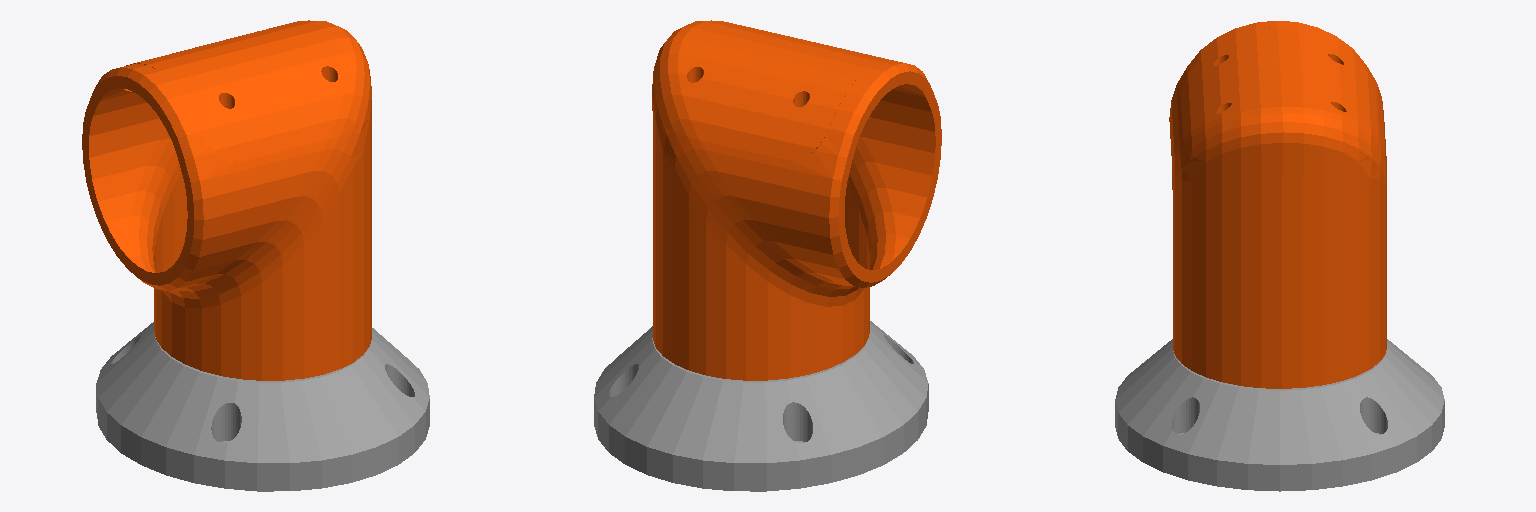
robot.urdf — r6bot:
<?xml version="1.0" ?>
<!-- =================================================================================== -->
<!-- |    This document was autogenerated by xacro -->
<!-- |    EDITING THIS FILE BY HAND IS NOT RECOMMENDED                                 | -->
<!-- =================================================================================== -->
<robot name="r6bot">
  <!-- create link fixed to the "world" -->
  <link name="world"/>
  <link name="base_link">
    <visual>
      <origin rpy="0 0 0" xyz="0 0 0"/>
      <geometry>
        <mesh filename="package://r6bot_description/meshes/visual/link_0.dae"/>
      </geometry>
    </visual>
    <collision>
      <origin rpy="0 0 0" xyz="0 0 0"/>
      <geometry>
        <mesh filename="package://r6bot_description/meshes/collision/link_0.stl"/>
      </geometry>
    </collision>
    <inertial>
      <mass value="1"/>
      <inertia ixx="1.0" ixy="0.0" ixz="0.0" iyy="1.0" iyz="0.0" izz="1.0"/>
    </inertial>
  </link>
  <link name="link_1">
    <visual>
      <origin rpy="0 0 0" xyz="0 0 0"/>
      <geometry>
        <mesh filename="package://r6bot_description/meshes/visual/link_1.dae"/>
      </geometry>
    </visual>
    <collision>
      <origin rpy="0 0 0" xyz="0 0 0"/>
      <geometry>
        <mesh filename="package://r6bot_description/meshes/collision/link_1.stl"/>
      </geometry>
    </collision>
    <inertial>
      <mass value="1"/>
      <inertia ixx="1.0" ixy="0.0" ixz="0.0" iyy="1.0" iyz="0.0" izz="1.0"/>
    </inertial>
  </link>
  <link name="link_2">
    <visual>
      <origin rpy="0 0 0" xyz="0 0 0"/>
      <geometry>
        <mesh filename="package://r6bot_description/meshes/visual/link_2.dae"/>
      </geometry>
    </visual>
    <collision>
      <origin rpy="0 0 0" xyz="0 0 0"/>
      <geometry>
        <mesh filename="package://r6bot_description/meshes/collision/link_2.stl"/>
      </geometry>
    </collision>
    <inertial>
      <mass value="1"/>
      <inertia ixx="1.0" ixy="0.0" ixz="0.0" iyy="1.0" iyz="0.0" izz="1.0"/>
    </inertial>
  </link>
  <link name="link_3">
    <visual>
      <origin rpy="0 0 0" xyz="0 0 0"/>
      <geometry>
        <mesh filename="package://r6bot_description/meshes/visual/link_3.dae"/>
      </geometry>
    </visual>
    <collision>
      <origin rpy="0 0 0" xyz="0 0 0"/>
      <geometry>
        <mesh filename="package://r6bot_description/meshes/collision/link_3.stl"/>
      </geometry>
    </collision>
    <inertial>
      <mass value="1"/>
      <inertia ixx="1.0" ixy="0.0" ixz="0.0" iyy="1.0" iyz="0.0" izz="1.0"/>
    </inertial>
  </link>
  <link name="link_4">
    <visual>
      <origin rpy="0 0 0" xyz="0 0 0"/>
      <geometry>
        <mesh filename="package://r6bot_description/meshes/visual/link_4.dae"/>
      </geometry>
    </visual>
    <collision>
      <origin rpy="0 0 0" xyz="0 0 0"/>
      <geometry>
        <mesh filename="package://r6bot_description/meshes/collision/link_4.stl"/>
      </geometry>
    </collision>
    <inertial>
      <mass value="1"/>
      <inertia ixx="1.0" ixy="0.0" ixz="0.0" iyy="1.0" iyz="0.0" izz="1.0"/>
    </inertial>
  </link>
  <link name="link_5">
    <visual>
      <origin rpy="0 0 0" xyz="0 0 0"/>
      <geometry>
        <mesh filename="package://r6bot_description/meshes/visual/link_5.dae"/>
      </geometry>
    </visual>
    <collision>
      <origin rpy="0 0 0" xyz="0 0 0"/>
      <geometry>
        <mesh filename="package://r6bot_description/meshes/collision/link_5.stl"/>
      </geometry>
    </collision>
    <inertial>
      <mass value="1"/>
      <inertia ixx="1.0" ixy="0.0" ixz="0.0" iyy="1.0" iyz="0.0" izz="1.0"/>
    </inertial>
  </link>
  <link name="link_6">
    <visual>
      <origin rpy="0 0 0" xyz="0 0 0"/>
      <geometry>
        <mesh filename="package://r6bot_description/meshes/visual/link_6.dae"/>
      </geometry>
    </visual>
    <collision>
      <origin rpy="0 0 0" xyz="0 0 0"/>
      <geometry>
        <mesh filename="package://r6bot_description/meshes/collision/link_6.stl"/>
      </geometry>
    </collision>
    <inertial>
      <mass value="1"/>
      <inertia ixx="1.0" ixy="0.0" ixz="0.0" iyy="1.0" iyz="0.0" izz="1.0"/>
    </inertial>
  </link>
  <link name="ft_frame"/>
  <link name="tool0"/>
  <!-- base_joint fixes base_link to the environment -->
  <joint name="base_joint" type="fixed">
    <parent link="world"/>
    <child link="base_link"/>
    <origin rpy="0 0 0" xyz="0 0 0"/>
    <axis xyz="0 0 1"/>
  </joint>
  <!-- joints - main serial chain -->
  <joint name="joint_1" type="revolute">
    <parent link="base_link"/>
    <child link="link_1"/>
    <origin rpy="0 0 0" xyz="0 0 0.061584"/>
    <axis xyz="0 0 1"/>
    <limit effort="1000.0" lower="-3.141592653589793" upper="3.141592653589793" velocity="2.5"/>
  </joint>
  <joint name="joint_2" type="revolute">
    <parent link="link_1"/>
    <child link="link_2"/>
    <origin rpy="-1.5707963267948966 -1.0471975511965976 1.5707963267948966" xyz="-0.101717 0 0.182284"/>
    <axis xyz="0 0 1"/>
    <limit effort="1000.0" lower="-3.141592653589793" upper="3.141592653589793" velocity="2.5"/>
  </joint>
  <joint name="joint_3" type="revolute">
    <parent link="link_2"/>
    <child link="link_3"/>
    <origin rpy="0 3.141592653589793 4.71238898038469" xyz="0.685682 0 0.041861"/>
    <axis xyz="0 0 1"/>
    <limit effort="1000.0" lower="-3.141592653589793" upper="3.141592653589793" velocity="2.5"/>
  </joint>
  <joint name="joint_4" type="revolute">
    <parent link="link_3"/>
    <child link="link_4"/>
    <origin rpy="0 3.141592653589793 3.665191429188092" xyz="0.518777 0 0.067458"/>
    <axis xyz="0 0 1"/>
    <limit effort="1000.0" lower="-3.141592653589793" upper="3.141592653589793" velocity="2.5"/>
  </joint>
  <joint name="joint_5" type="revolute">
    <parent link="link_4"/>
    <child link="link_5"/>
    <origin rpy="1.5707963267948966 3.141592653589793 1.5707963267948966" xyz="0.112654 0 0.110903"/>
    <axis xyz="0 0 1"/>
    <limit effort="1000.0" lower="-3.141592653589793" upper="3.141592653589793" velocity="2.5"/>
  </joint>
  <joint name="joint_6" type="revolute">
    <parent link="link_5"/>
    <child link="link_6"/>
    <origin rpy="0 -1.5707963267948966 0" xyz="-0.085976 0 0.133436"/>
    <axis xyz="0 0 1"/>
    <limit effort="1000.0" lower="-3.141592653589793" upper="3.141592653589793" velocity="2.5"/>
  </joint>
  <joint name="joint-ft_frame" type="fixed">
    <parent link="link_6"/>
    <child link="ft_frame"/>
    <origin rpy="0 0 0" xyz="0 0 0"/>
  </joint>
  <joint name="joint-tool" type="fixed">
    <parent link="ft_frame"/>
    <child link="tool0"/>
    <origin rpy="0 0 0" xyz="0 0 .185"/>
  </joint>
  <!-- ros2 control tag -->
  <ros2_control name="robot_6_dof" type="system">
    <hardware>
      <plugin>r6bot_hardware/RobotSystem</plugin>
    </hardware>
    <joint name="joint_1">
      <command_interface name="position">
        <param name="min">{-2*pi}</param>
        <param name="max">{2*pi}</param>
      </command_interface>
      <command_interface name="velocity">
        <param name="min">-3.15</param>
        <param name="max">3.15</param>
      </command_interface>
      <state_interface name="position">
        <param name="initial_value">0.0</param>
      </state_interface>
      <state_interface name="velocity"/>
    </joint>
    <joint name="joint_2">
      <command_interface name="position">
        <param name="min">{-2*pi}</param>
        <param name="max">{2*pi}</param>
      </command_interface>
      <command_interface name="velocity">
        <param name="min">-3.15</param>
        <param name="max">3.15</param>
      </command_interface>
      <state_interface name="position">
        <param name="initial_value">0.0</param>
      </state_interface>
      <state_interface name="velocity"/>
    </joint>
    <joint name="joint_3">
      <command_interface name="position">
        <param name="min">{-pi}</param>
        <param name="max">{pi}</param>
      </command_interface>
      <command_interface name="velocity">
        <param name="min">-3.15</param>
        <param name="max">3.15</param>
      </command_interface>
      <state_interface name="position">
        <param name="initial_value">0.0</param>
      </state_interface>
      <state_interface name="velocity"/>
    </joint>
    <joint name="joint_4">
      <command_interface name="position">
        <param name="min">{-2*pi}</param>
        <param name="max">{2*pi}</param>
      </command_interface>
      <command_interface name="velocity">
        <param name="min">-3.2</param>
        <param name="max">3.2</param>
      </command_interface>
      <state_interface name="position">
        <param name="initial_value">0.0</param>
      </state_interface>
      <state_interface name="velocity"/>
    </joint>
    <joint name="joint_5">
      <command_interface name="position">
        <param name="min">{-2*pi}</param>
        <param name="max">{2*pi}</param>
      </command_interface>
      <command_interface name="velocity">
        <param name="min">-3.2</param>
        <param name="max">3.2</param>
      </command_interface>
      <state_interface name="position">
        <param name="initial_value">0.0</param>
      </state_interface>
      <state_interface name="velocity"/>
    </joint>
    <joint name="joint_6">
      <command_interface name="position">
        <param name="min">{-2*pi}</param>
        <param name="max">{2*pi}</param>
      </command_interface>
      <command_interface name="velocity">
        <param name="min">-3.2</param>
        <param name="max">3.2</param>
      </command_interface>
      <state_interface name="position">
        <param name="initial_value">0.0</param>
      </state_interface>
      <state_interface name="velocity"/>
    </joint>
    <sensor name="tcp_fts_sensor">
      <state_interface name="force.x"/>
      <state_interface name="force.y"/>
      <state_interface name="force.z"/>
      <state_interface name="torque.x"/>
      <state_interface name="torque.y"/>
      <state_interface name="torque.z"/>
    </sensor>
  </ros2_control>
</robot>

--- Render facts (derived) ---
Views: 3 orthographic renders of the robot side by side, from view 1: azimuth 30°, elevation 25°; view 2: azimuth 150°, elevation 25°; view 3: azimuth 270°, elevation 25°.
Model r6bot with 10 links and 9 joints (6 revolute, 3 fixed), rooted at world, posed all joints at 0.
Links seen in each view (by area): view 1: link_1, base_link; view 2: link_1, base_link; view 3: link_1, base_link.
Link boxes in pixels (x1,y1,x2,y2): link_1: (82,20,371,380); base_link: (96,322,429,491); link_1: (652,20,941,380); base_link: (594,321,928,491); link_1: (1169,21,1386,388); base_link: (1115,339,1444,491).
Bounding box of the posed robot: 0.2706 × 0.2903 × 0.3411 m (x, y, z).
2 mesh visuals loaded from 7 distinct referenced files (2 Collada DAE); not drawn: 5 (reference not matched to a file when rendering).